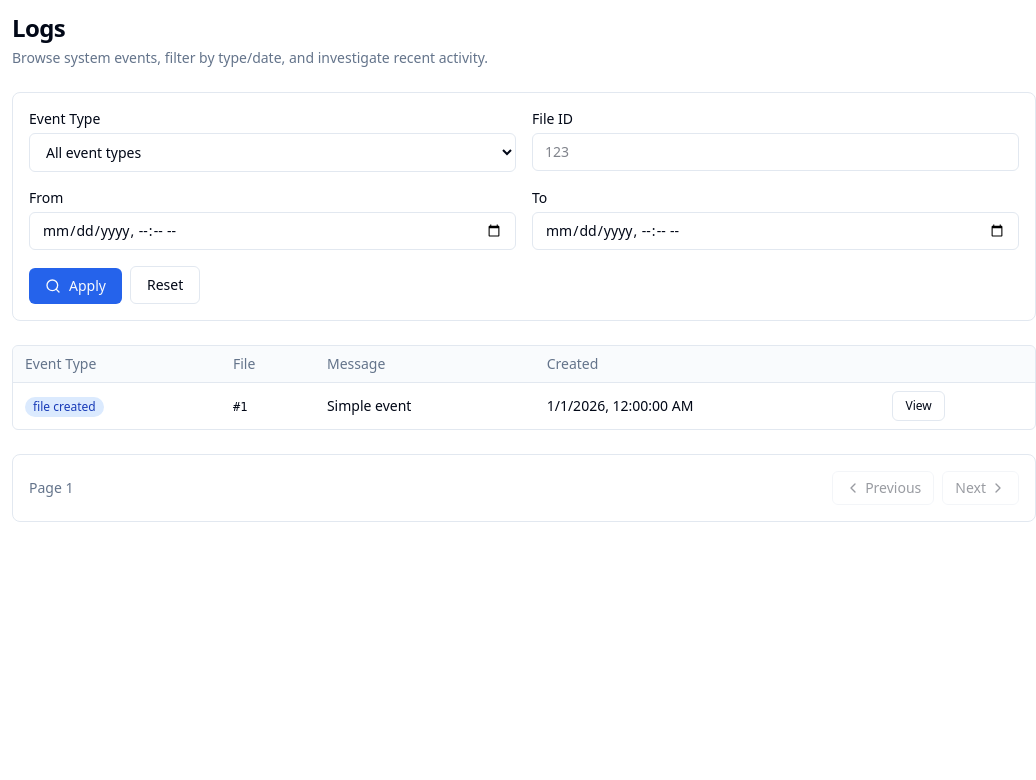
Test case: LogsPage › shows "No additional details" when log entry has null details
This screenshot has width=1036, height=780.
Expected: the row with test id "log-row-99" is shown, x1=13 y1=382 x2=1035 y2=429
What coordinates should you click on to do the following:
click the button "View"
I would click on:
 (919, 406)
Its box is x1=892 y1=391 x2=945 y2=421.
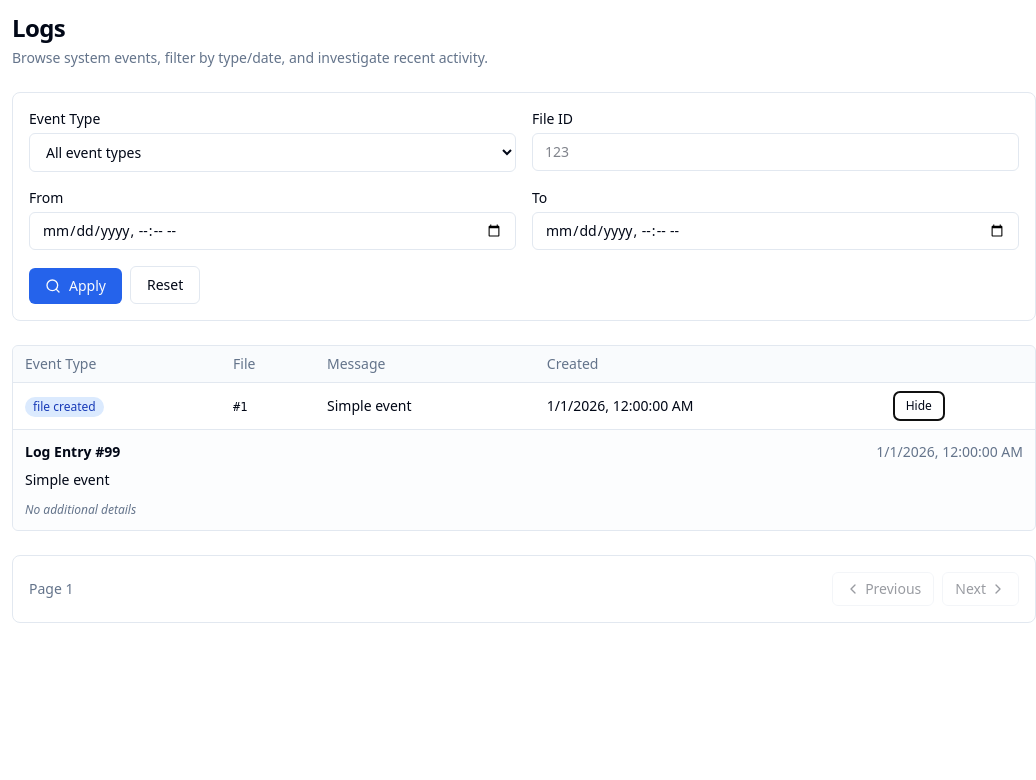
Result: the text "No additional details" is shown at x1=25 y1=501 x2=136 y2=518
